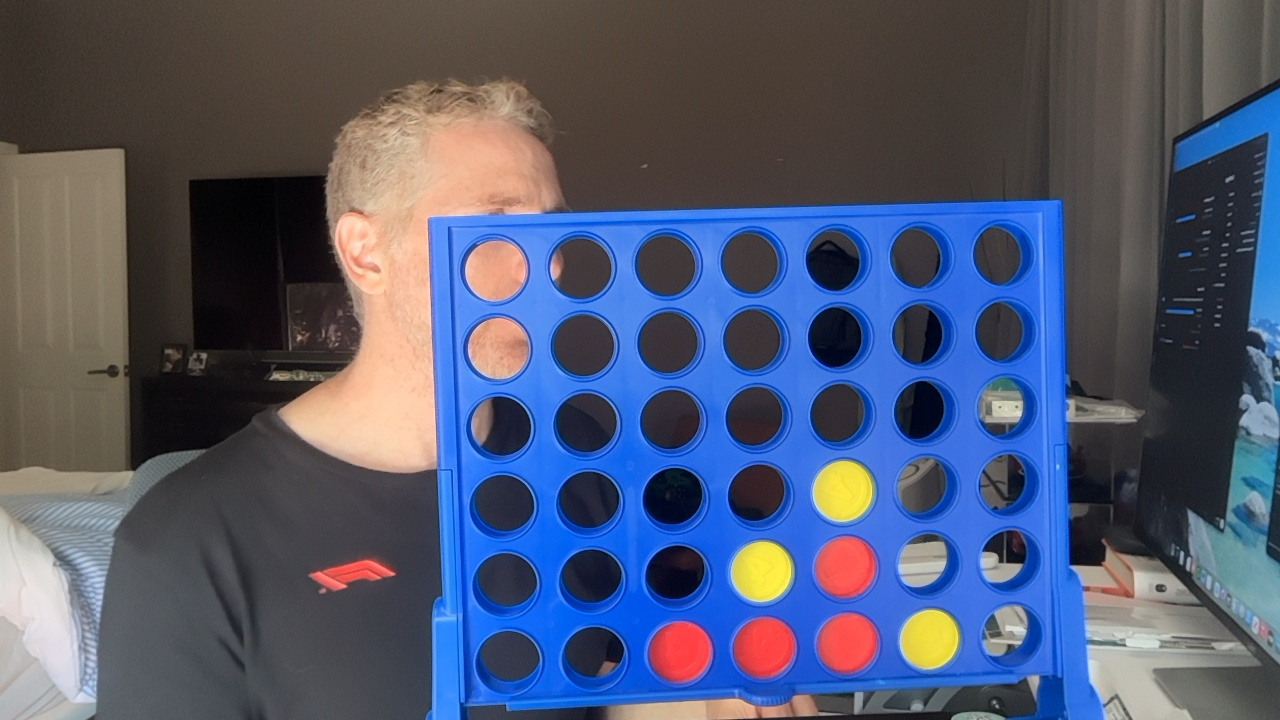red piece: (732, 617, 796, 679), (648, 621, 711, 683), (817, 613, 878, 674), (815, 536, 875, 598)
yellow piece: (730, 541, 793, 602), (813, 459, 874, 522), (899, 608, 959, 669)
